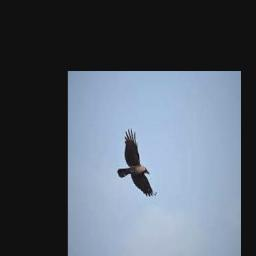Crow: (117, 128, 153, 197)
